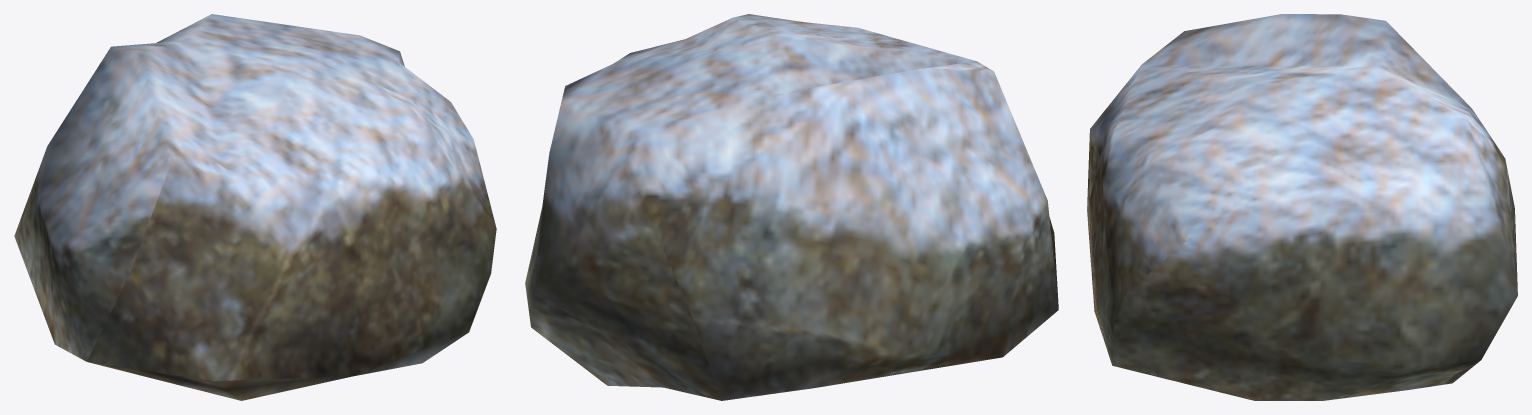
Rendered from SM_EN_2007_shitou06.FBX.
The picture shows the model from 3 angles, left to right: view 1: azimuth 30°, elevation 25°; view 2: azimuth 150°, elevation 25°; view 3: azimuth 270°, elevation 25°; orthographic projection. The views are drawn at different scales.
Visible parts, largest first — view 1: SM_EN_2007_shitou06; view 2: SM_EN_2007_shitou06; view 3: SM_EN_2007_shitou06.
Part boxes in pixels (x1,y1,x2,y2): SM_EN_2007_shitou06: (14,14,496,400); SM_EN_2007_shitou06: (525,14,1058,400); SM_EN_2007_shitou06: (1087,14,1517,400).
Bounding box in the file's own units: 76.48 × 54.79 × 72.94.
